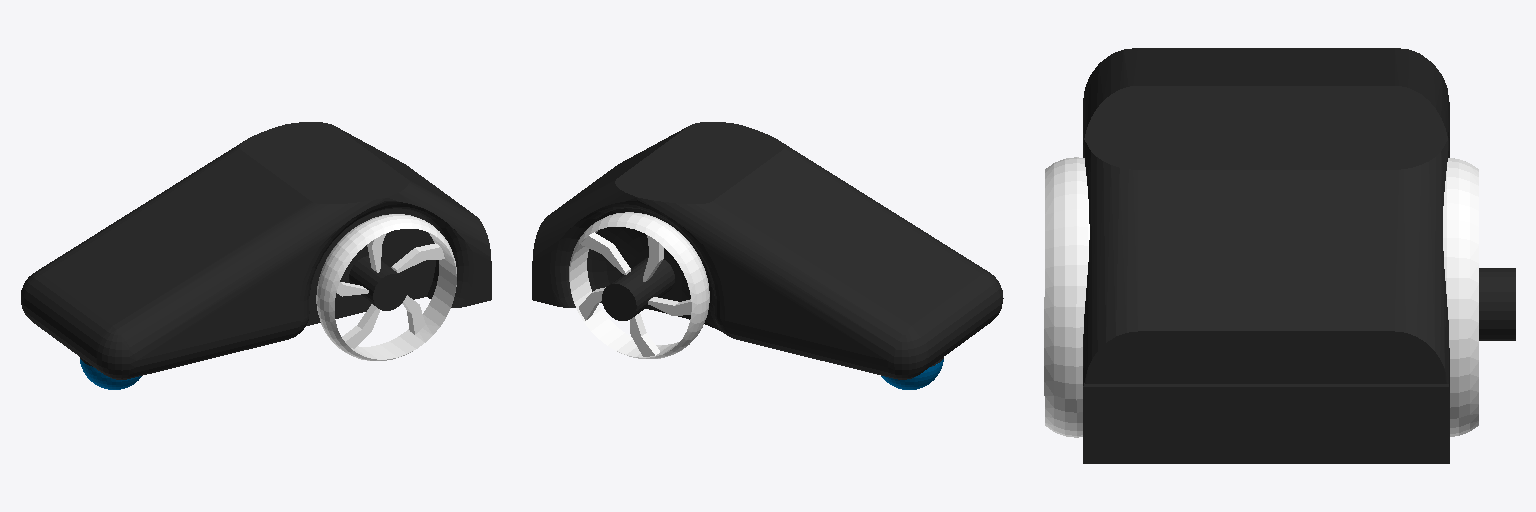
The robot description file, URDF, robot "maze_bot":
<robot name="maze_bot">

  <!-- 
    - take a look into inertia_calculations.txt file
    Inertia Values https://github.com/RobotnikAutomation/rb1_base_common/issues/1
-   Get the inertia tensor 
-   Scale 
-   Divide by the volume
-   Divide by scale*2 (scale -sqaurred)
-   multiply with  mass you wantto give
Thats why we use xacros

 -->

    <link name="base_footprint"/>
    <link name="base">
      <inertial>
        <mass value="2" />
        <origin xyz="0 0 0.1" rpy="0 0 0" />
        <inertia ixx="0.00355" iyy="0.01265" izz="0.013832" ixy="0.0" ixz="0.0" iyz="0.0" />
      </inertial>

      <visual>
        <geometry>
            <mesh filename="package://maze_bot/meshes/base_link.stl"/>
        </geometry>
        <material name="gray">
          <color rgba=".2 .2 .2 1" />
        </material>
      </visual>
  
      <collision>
        <geometry>
          <mesh filename="package://maze_bot/meshes/base_link.stl"/>
      </geometry>
        <contact_coefficients mu="1" mu2="1" kp="1e+13.0" kd="1.0"/>
      </collision>


    </link>
   <joint name="base_joint" type="fixed">
      <parent link="base_footprint"/>
      <child link="base"/>
      <origin rpy="0 0 0" xyz="0 0 0"/>
    </joint>


 <link name="wheel_right">
    <inertial>
      <mass value="0.75"/>
      <inertia ixx="0.001444223" iyy="0.00280875" izz="0.001444223" ixy="0.0" ixz="0.0" iyz="0.0"/>
      <origin/>
    </inertial>
  
      <visual>
        
        <geometry>
            <mesh filename="package://maze_bot/meshes/wheel_r.stl"/>
        </geometry>

        <material name="white">
          <color rgba="1 1 1 1"/>
        </material>
      </visual>
  
      <collision>
        <geometry>
            <mesh filename="package://maze_bot/meshes/wheel_r.stl"/>
        </geometry>
        <contact_coefficients mu="0" kp="1000.0" kd="1.0"/>
      </collision>

    </link>
  
    <joint name="wheel_right_joint" type="continuous">
      <origin xyz="0.09 0.085 0.04  " rpy="0 0.0 0.0"/>
      <parent link="base"/>
      <child link="wheel_right"/>
      <axis xyz="0.0 -1.0 0"/>
    </joint>
  
    <link name="wheel_left">
      <inertial>
        <mass value="0.75"/>
        <inertia ixx="0.001444223" iyy="0.00280875" izz="0.001444223" ixy="0.0" ixz="0.0" iyz="0.0" />
        <origin/>
      </inertial>
  
      <visual>
        
        <geometry>
            <mesh filename="package://maze_bot/meshes/wheel_l.stl"/>
        </geometry>
        
        <material name="white">
          <color rgba="1 1 1 1"/>
        </material>
      </visual>
  
      <collision>
        <geometry>
            <mesh filename="package://maze_bot/meshes/wheel_l.stl"/>
        </geometry>
        <contact_coefficients mu="0" kp="1000.0" kd="1.0"/>
      </collision>
    </link>
  
    <joint name="wheel_left_joint" type="continuous">
      <origin xyz="0.09 -0.1 0.04" rpy="0 0.0 3.14"/>
      <parent link="base"/>
      <child link="wheel_left"/>
      <axis xyz="0.0 1 0"/>
  
    </joint>
  
  
    <link name="caster">

      <inertial>
        <mass value="0.75"/>
        <inertia ixx="0.0001295" iyy="0.0001295" izz="0.000199322" ixy="0.0" ixz="0.0" iyz="0.0" />
        <origin/>
      </inertial>
  
      <visual>
        <geometry>
          <mesh filename="package://maze_bot/meshes/front_caster.stl"/>
      </geometry>
        <material name="black" />
      </visual>
  
      <collision>
        <geometry>
          <mesh filename="package://maze_bot/meshes/front_caster.stl"/>
      </geometry>
        <contact_coefficients mu="0" kp="1000.0" kd="1.0"/>
      </collision>
    </link>
  
    <joint name="caster_joint" type="continuous">
      <origin xyz="-0.14 -0.007 -0.03" rpy="0.0 0.0 0.0"/>
      <axis xyz="0 0 1" />
      <parent link="base"/>
      <child link="caster"/>
    </joint>  



    <gazebo reference="base">
      <material>Gazebo/Black</material>
    </gazebo>
    <gazebo reference="caster">
      <material>Gazebo/White</material>
    </gazebo>
    
    <gazebo reference="wheel_right_link">
      <material>Gazebo/White</material>
    </gazebo>
    <gazebo reference="wheel_left_link">
      <material>Gazebo/White</material>
    </gazebo> 


    <gazebo>
      <plugin filename="libgazebo_ros_diff_drive.so" name="gazebo_base_controller">
        <odometry_frame>odom</odometry_frame>
        <commandTopic>cmd_vel</commandTopic>
        <publish_odom>true</publish_odom>
        <publish_odom_tf>true</publish_odom_tf>
        <update_rate>15.0</update_rate>
        <left_joint>wheel_left_joint</left_joint>
        <right_joint>wheel_right_joint</right_joint>
        <wheel_separation>0.8</wheel_separation>
        <wheel_diameter>0.3</wheel_diameter>
        <max_wheel_acceleration>0.7</max_wheel_acceleration>
        <robotBaseFrame>base</robotBaseFrame>
  
      </plugin>
    </gazebo>


  </robot>
  

--- What the picture shows (computed from the rendered views, not written in the file) ---
The picture shows the robot from 3 angles, left to right: view 1: azimuth 30°, elevation 25°; view 2: azimuth 150°, elevation 25°; view 3: azimuth 270°, elevation 25°; orthographic projection.
Robot: maze_bot — 5 links, 4 joints (3 continuous, 1 fixed); root link base_footprint; default pose: all joints at 0.
Links seen in each view (by area): view 1: base, wheel_left, caster; view 2: base, wheel_right, caster; view 3: base, wheel_left, wheel_right.
Link boxes in pixels (box(x1,y1,x2,y2)): base: box(21, 122, 491, 379); wheel_left: box(316, 214, 456, 360); caster: box(80, 359, 141, 389); base: box(532, 122, 1003, 379); wheel_right: box(569, 212, 709, 358); caster: box(881, 359, 943, 389); base: box(1083, 48, 1515, 463); wheel_left: box(1044, 157, 1089, 437); wheel_right: box(1443, 158, 1478, 436).
Bounding box of the posed robot: 0.3984 × 0.235 × 0.1718 m (x, y, z).
4 mesh visuals loaded from 4 distinct referenced files (4 binary STL).